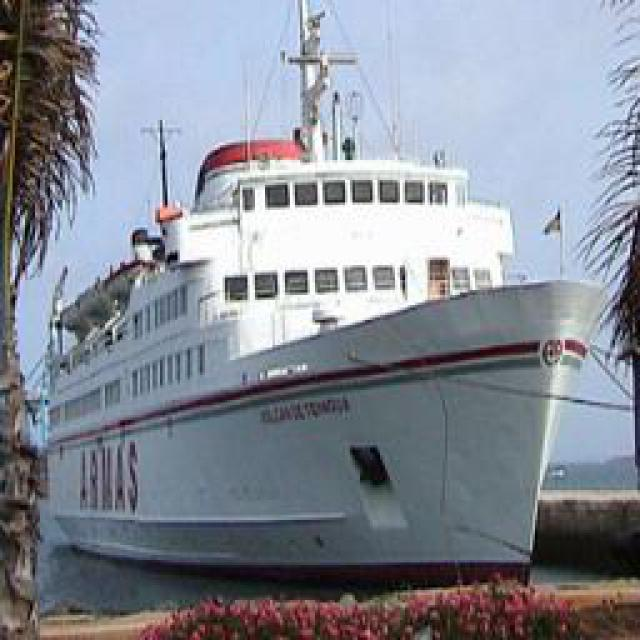Ship: (41, 17, 624, 595)
